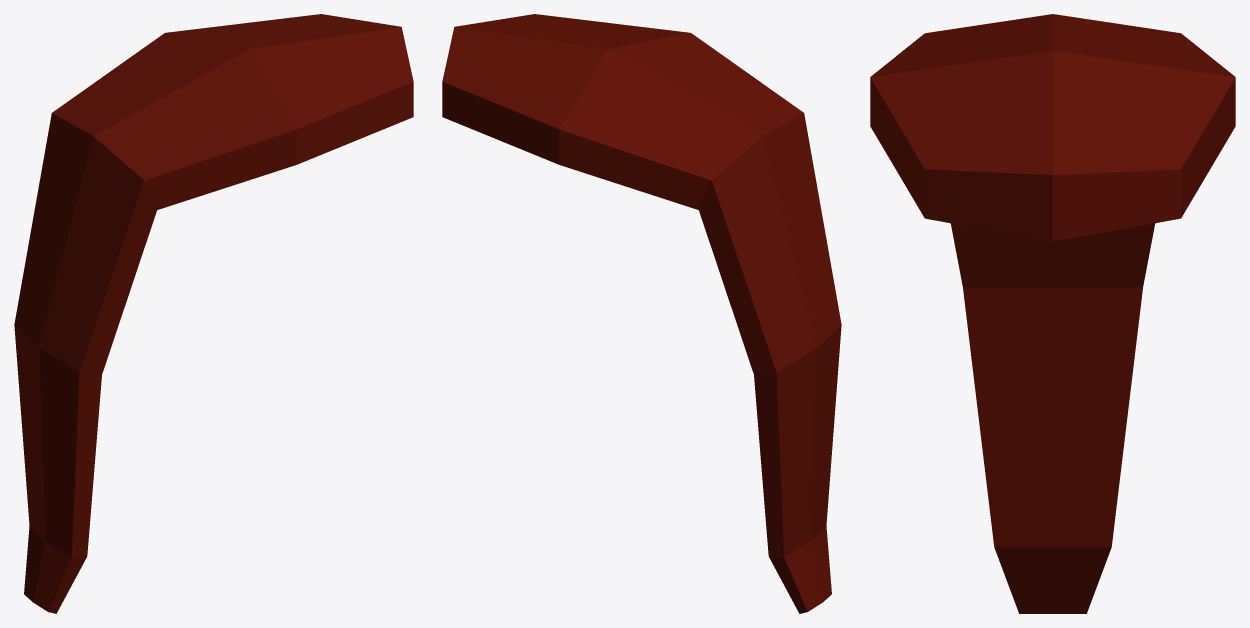
The model's file is Hair_1.fbx.
3 views of the same model, side by side, from view 1: azimuth 30°, elevation 25°; view 2: azimuth 150°, elevation 25°; view 3: azimuth 270°, elevation 25° (orthographic). The views are drawn at different scales.
Parts seen in each view (by area): view 1: Hair 1; view 2: Hair 1; view 3: Hair 1.
Boxes of the visible parts, x1=… form: Hair 1: x1=14, y1=14, x2=413, y2=613; Hair 1: x1=442, y1=14, x2=841, y2=613; Hair 1: x1=870, y1=14, x2=1235, y2=613.
Bounding box in the file's own units: 62.6 × 82.13 × 38.8.
